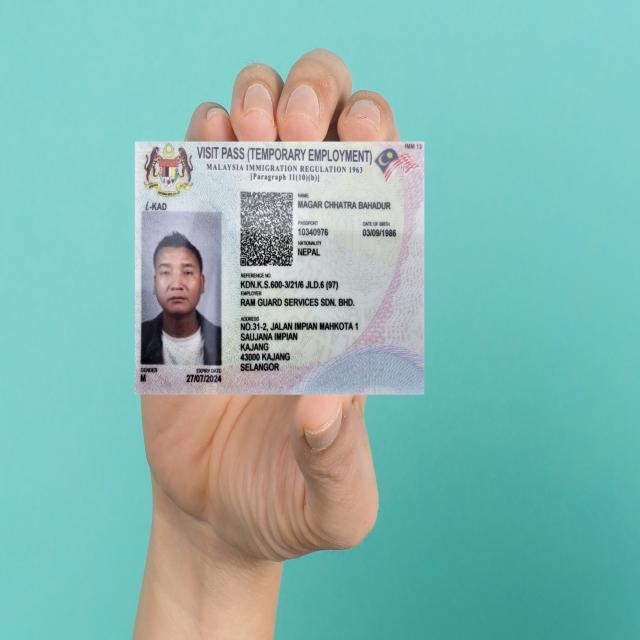ikad-temp: (132, 133, 432, 400)
